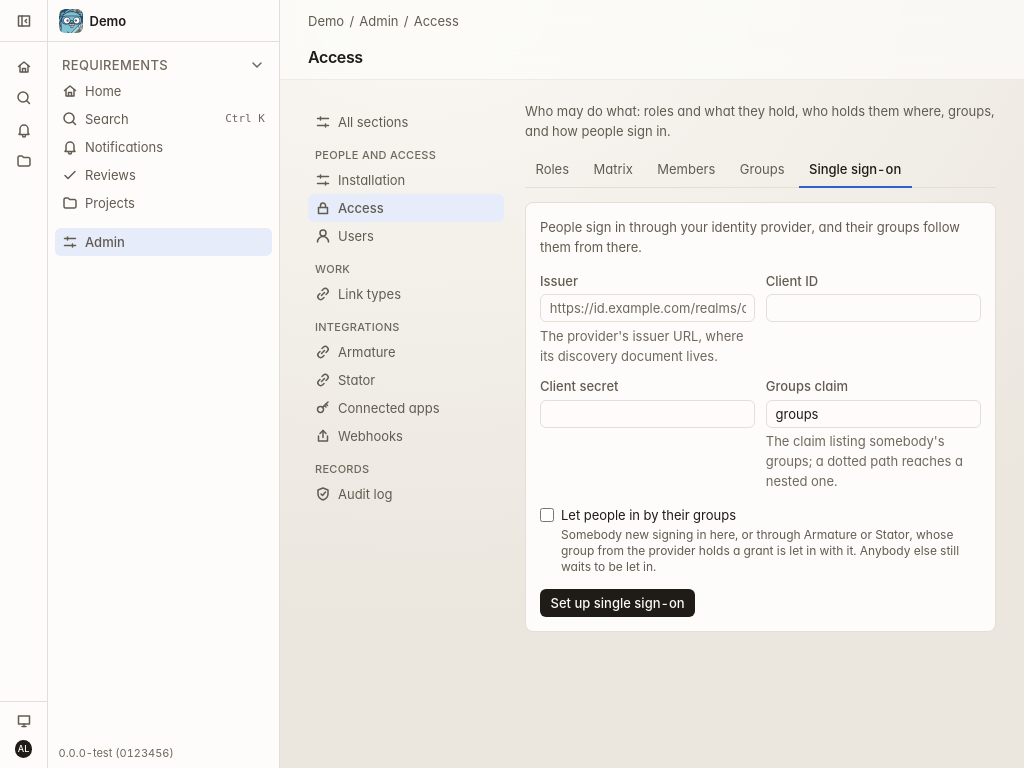
the single sign-on settings › shows what the server refused against its field
Click the button "Set up single sign-on".
click(618, 603)  # box [540, 589, 695, 617]
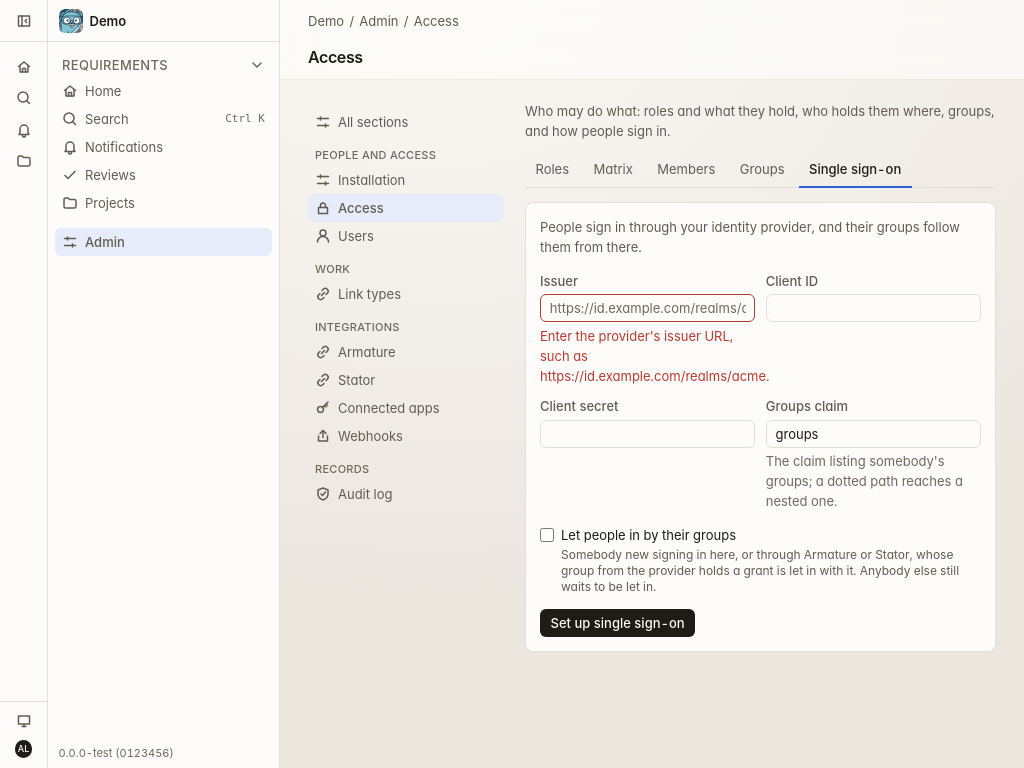
expect the text "Enter the provider's issuer URL, such as https://id.example.com/realms/acme." is shown: met, box [540, 326, 755, 386]
